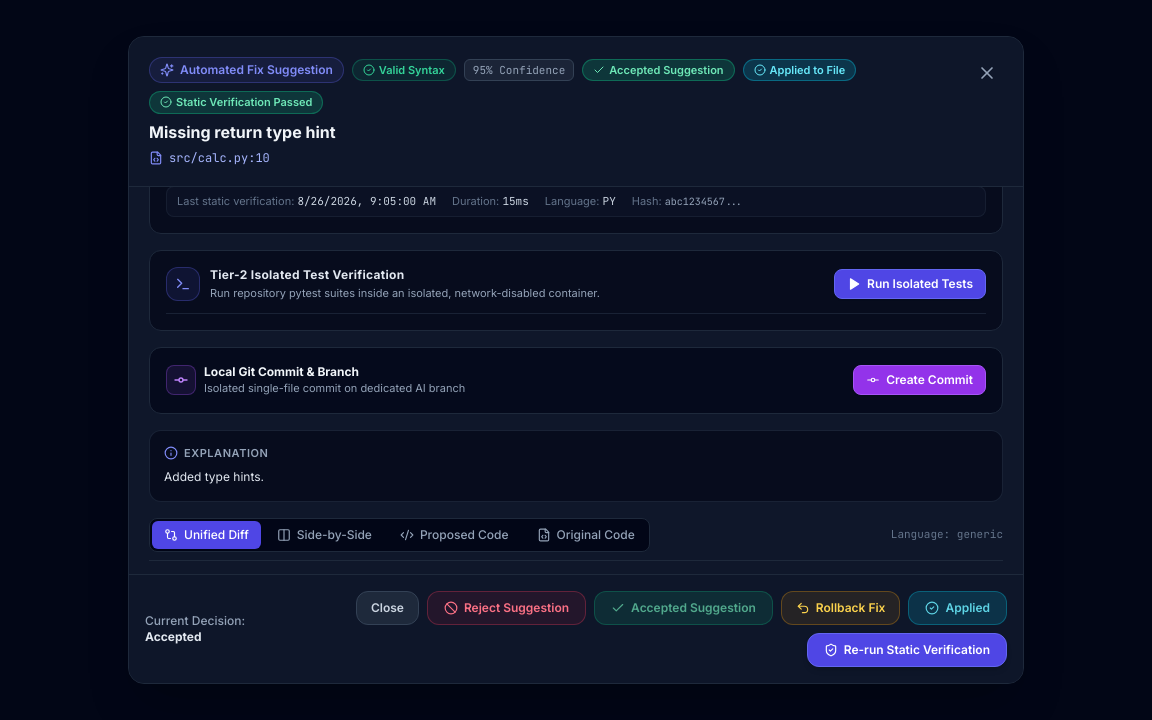
Scenario: Phase 11.5B-3 — Local Git Commit Frontend UI › 13. Generic Error: Displays Local Commit Failed without false success
The image size is (1152, 720).
(page scrolled)
Click the button with id "btn-open-create-commit" at (920, 380), box [853, 365, 986, 395]
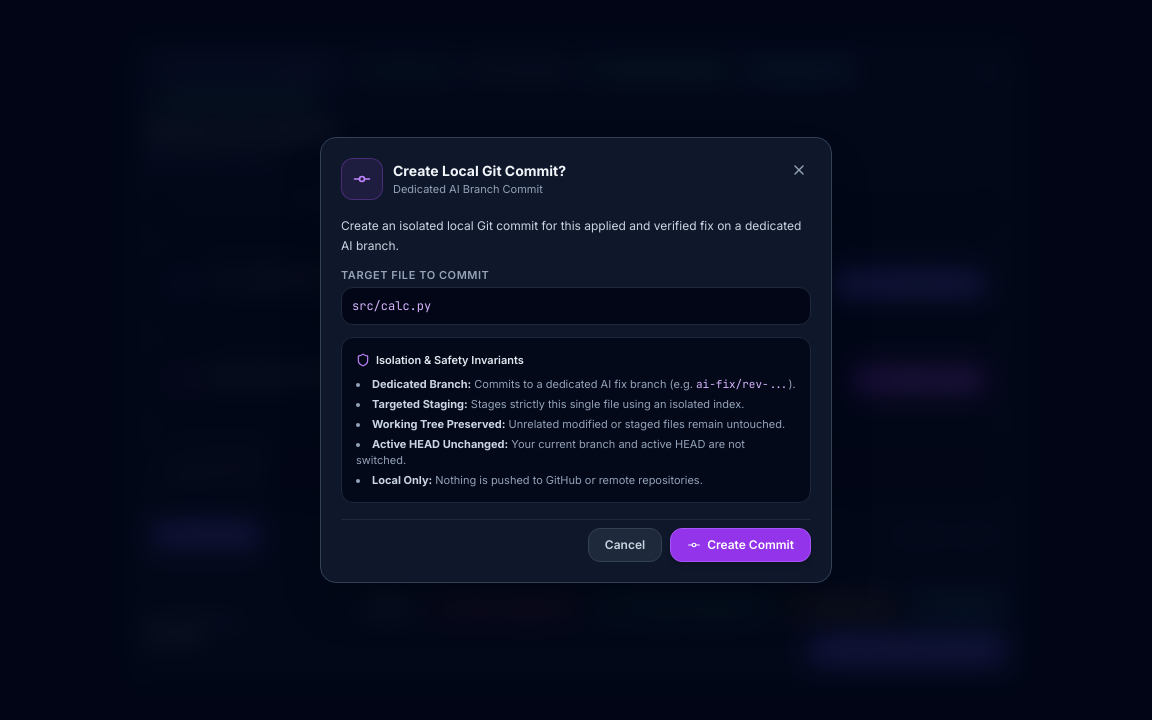
Click the button with id "btn-confirm-commit" at (741, 545), box [670, 528, 811, 562]
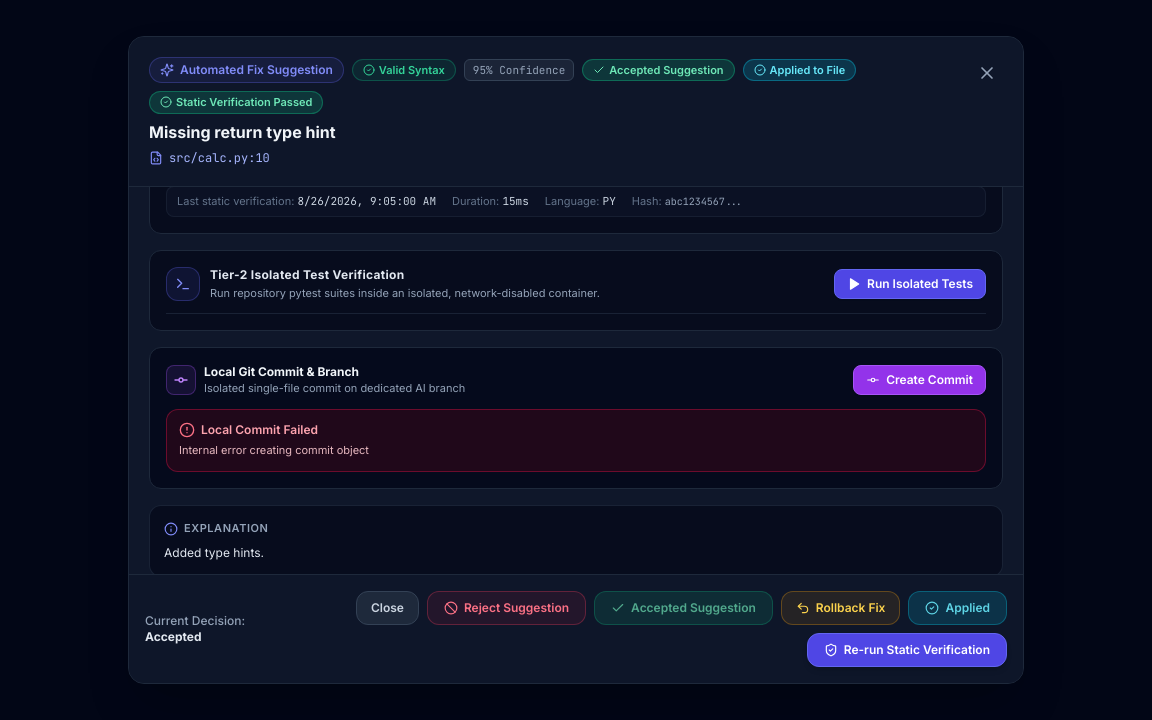
Now the text "Local Commit Failed" is shown, box [201, 422, 318, 438]
